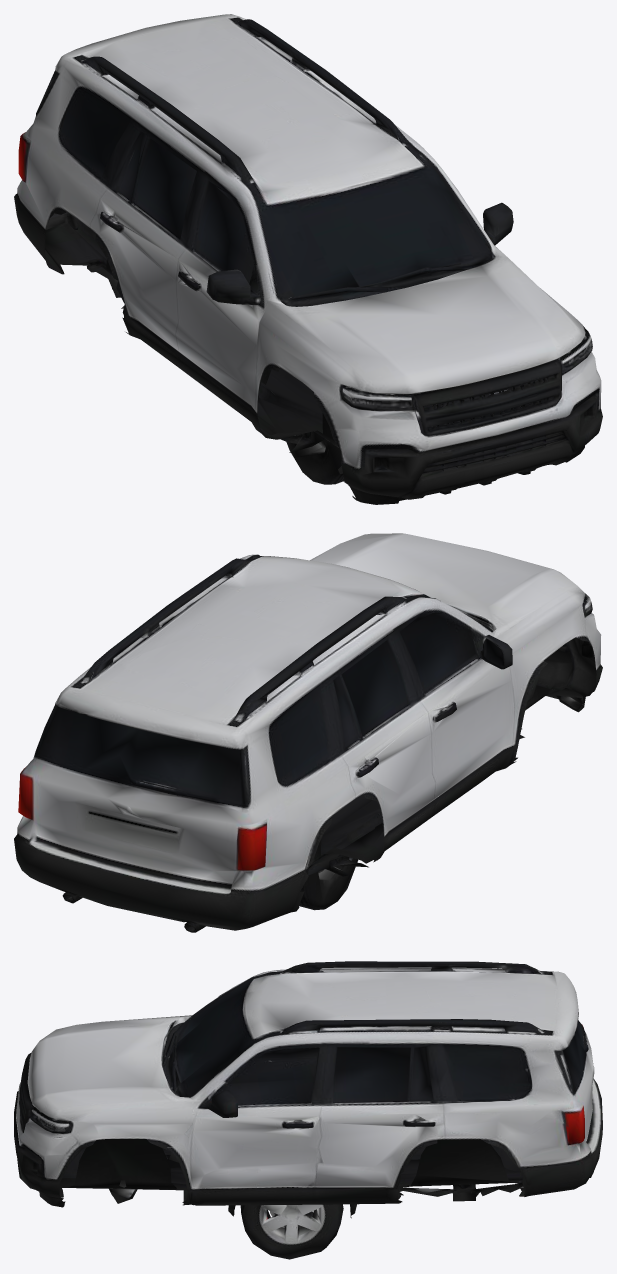
Rendered from suv.glb.
3 renders of one model, top to bottom at view 1: azimuth 30°, elevation 25°; view 2: azimuth 150°, elevation 25°; view 3: azimuth 270°, elevation 25°, orthographic. The views are drawn at different scales.
Visible parts, largest first — view 1: body, wheel; view 2: body, wheel; view 3: body, wheel.
Part boxes in pixels (x1=…): body: x1=14, y1=14, x2=602, y2=504; wheel: x1=280, y1=431, x2=344, y2=484; body: x1=14, y1=533, x2=602, y2=932; wheel: x1=299, y1=855, x2=368, y2=910; body: x1=14, y1=961, x2=602, y2=1207; wheel: x1=228, y1=1204, x2=356, y2=1259.
Size of what is drawn, in the model's own units: 2.31 by 2.45 by 5.
1 material, 1 textured.
